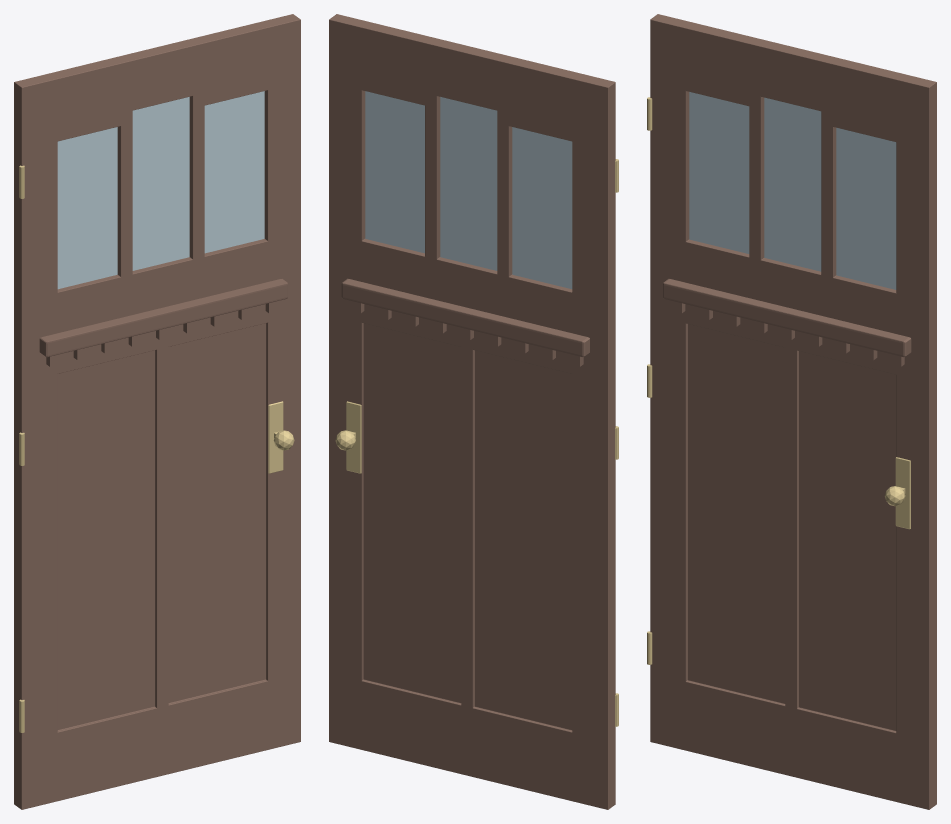
File: door_leaf_front.glb
The picture shows the model from 3 angles, left to right: view 1: azimuth 30°, elevation 25°; view 2: azimuth 150°, elevation 25°; view 3: azimuth 330°, elevation 25°; orthographic projection.
Parts seen in each view (by area): view 1: door_leaf_front_door, door_leaf_front_glass, door_leaf_front_brass; view 2: door_leaf_front_door, door_leaf_front_glass, door_leaf_front_brass; view 3: door_leaf_front_door, door_leaf_front_glass, door_leaf_front_brass.
Part boxes in pixels (bbox=[...]): door_leaf_front_door: bbox=[14, 14, 300, 809]; door_leaf_front_glass: bbox=[57, 91, 264, 289]; door_leaf_front_brass: bbox=[19, 165, 294, 732]; door_leaf_front_door: bbox=[329, 14, 615, 809]; door_leaf_front_glass: bbox=[365, 91, 572, 289]; door_leaf_front_brass: bbox=[335, 159, 618, 726]; door_leaf_front_door: bbox=[650, 14, 936, 809]; door_leaf_front_glass: bbox=[689, 92, 896, 289]; door_leaf_front_brass: bbox=[647, 97, 910, 664].
Bounding box in the file's own units: 0.938 × 2.3 × 0.205.
